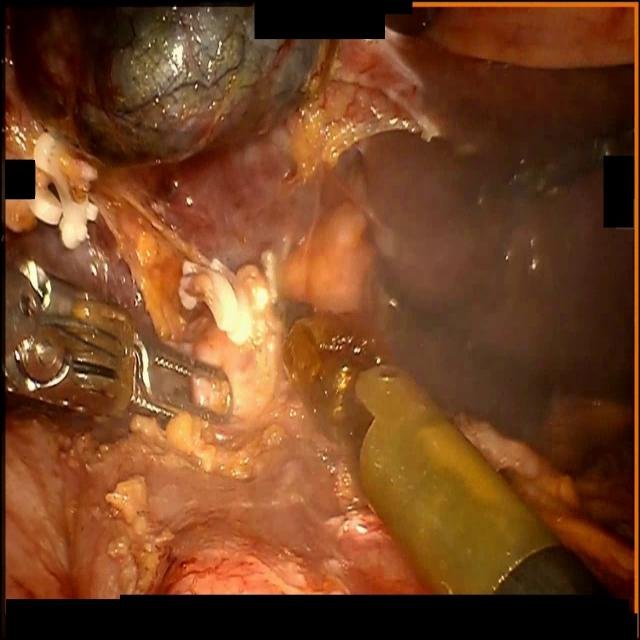surgical-area: (2, 2, 634, 606)
surgical-tool: (274, 291, 622, 603), (2, 255, 232, 428)
